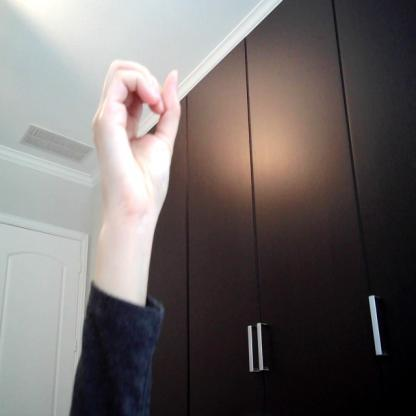zero: (88, 57, 186, 220)
